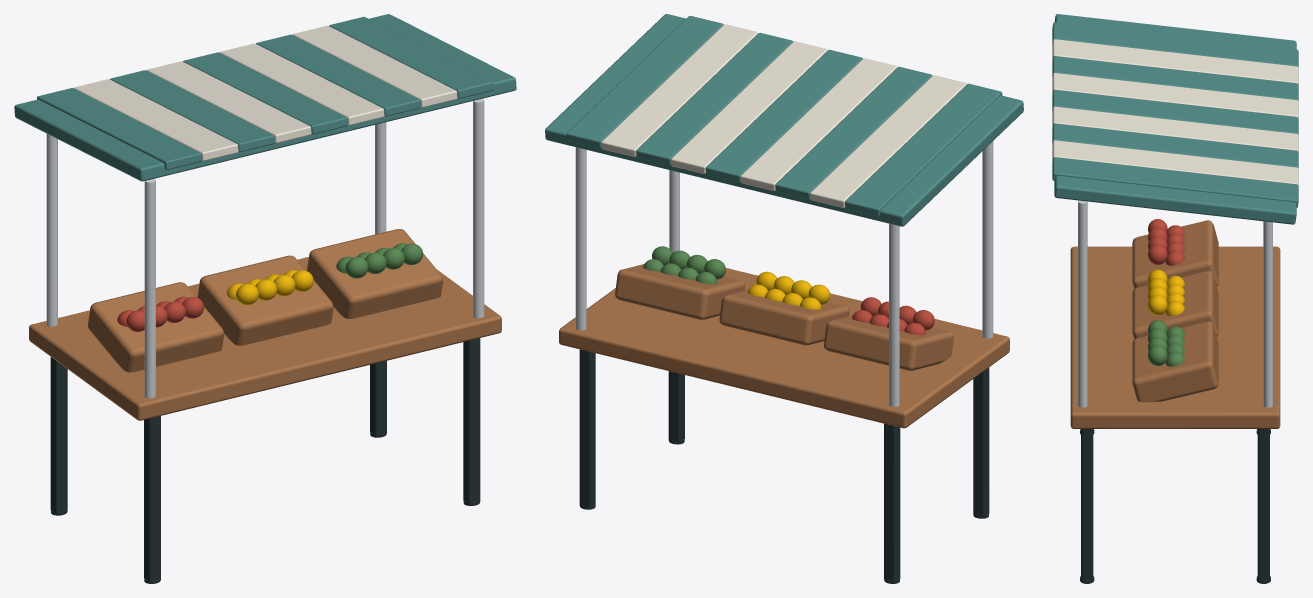
Rendered from wp-etal-de-marche.glb.
The picture shows the model from 3 angles, left to right: view 1: azimuth 30°, elevation 25°; view 2: azimuth 150°, elevation 25°; view 3: azimuth 270°, elevation 25°; orthographic projection. The views are drawn at different scales.
Parts seen in each view (by area): view 1: wp-etal-de-marche; view 2: wp-etal-de-marche; view 3: wp-etal-de-marche.
Boxes of the visible parts, x1,y1,x2,y2 form: wp-etal-de-marche: (14, 14, 516, 583); wp-etal-de-marche: (545, 14, 1023, 583); wp-etal-de-marche: (1052, 14, 1298, 583).
Bounding box in the file's own units: 2 × 2.2 × 1.2.
